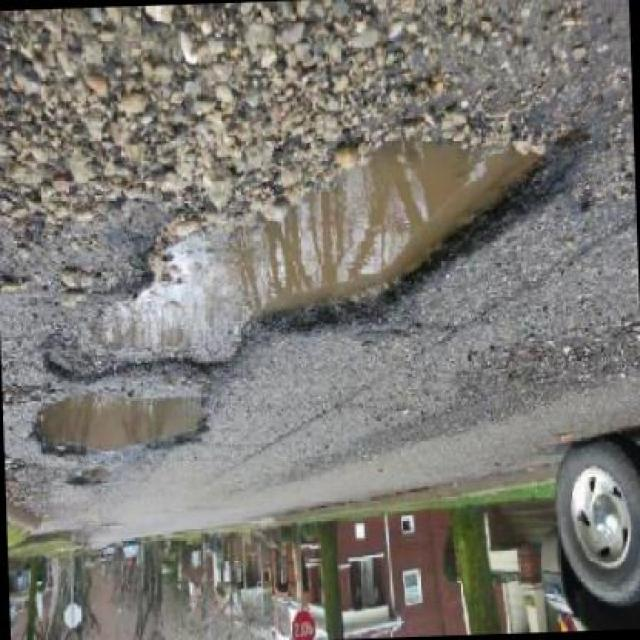pothole1: (30, 110, 588, 385), (25, 388, 212, 464), (62, 470, 107, 496)
